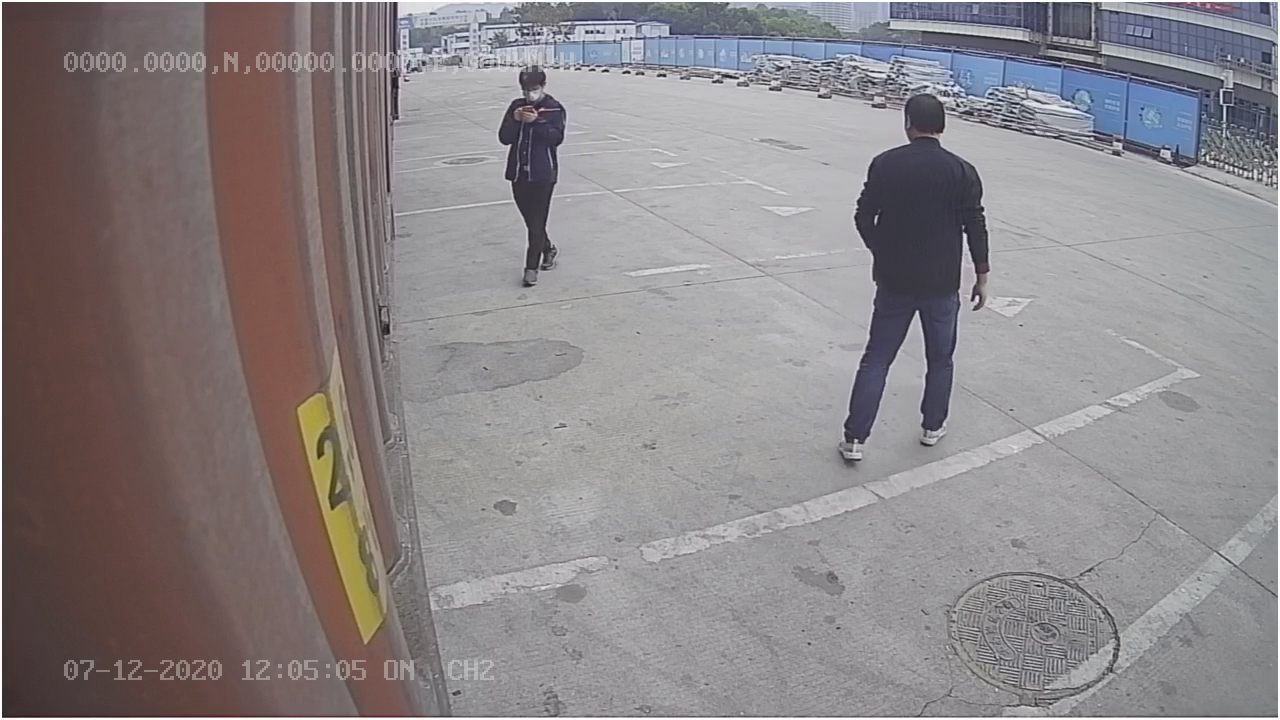person: (831, 86, 991, 463)
